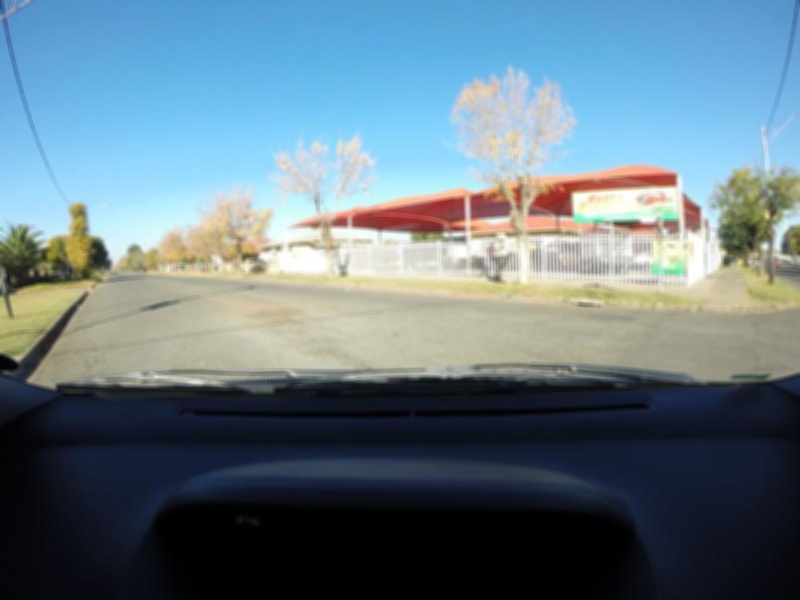pothole: (271, 321, 296, 327)
